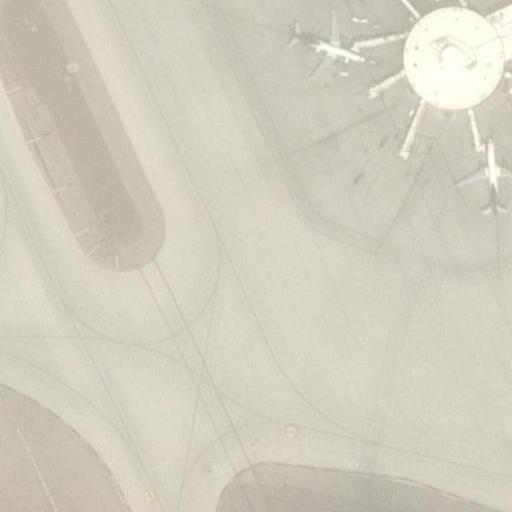Aircraft: (286, 16, 371, 75), (454, 135, 512, 221)
